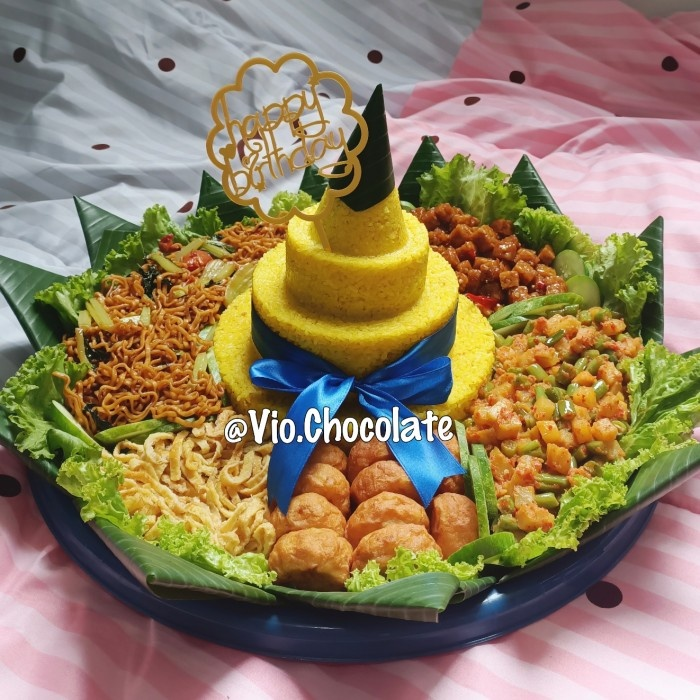tumpeng: (265, 84, 481, 328)
